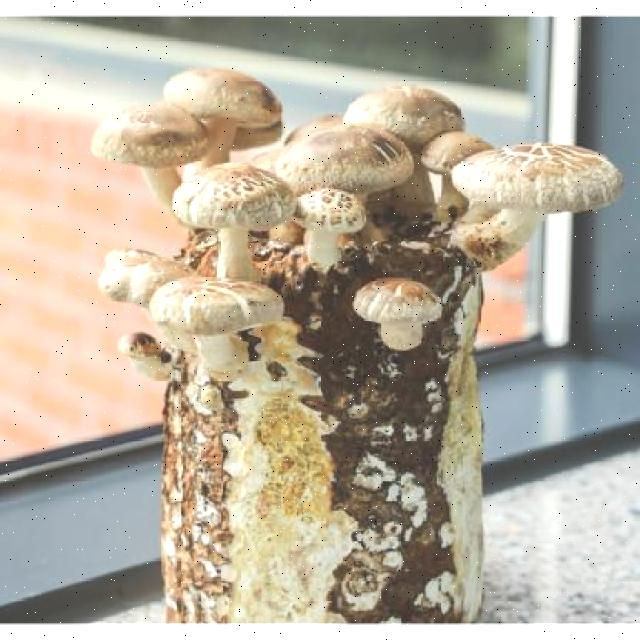Mushroom: (150, 136, 304, 296), (452, 130, 618, 262), (343, 261, 446, 354)
